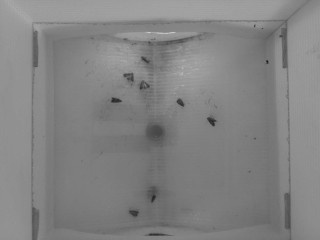insect: (138, 78, 150, 90), (205, 115, 217, 127), (122, 71, 135, 82), (139, 54, 150, 65), (175, 96, 185, 108), (127, 208, 140, 217), (110, 95, 123, 103), (150, 194, 157, 203)
